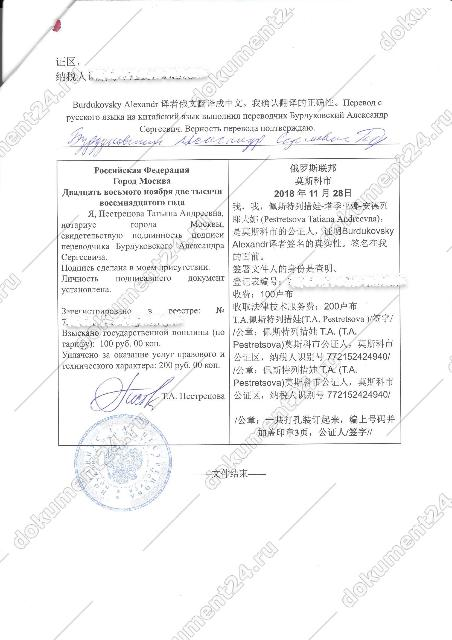stamp: (74, 413, 175, 513)
